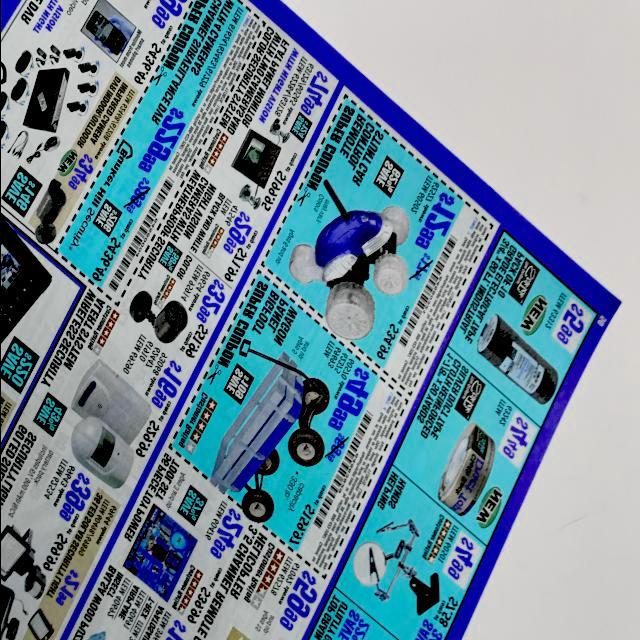paper: (1, 0, 626, 640)
